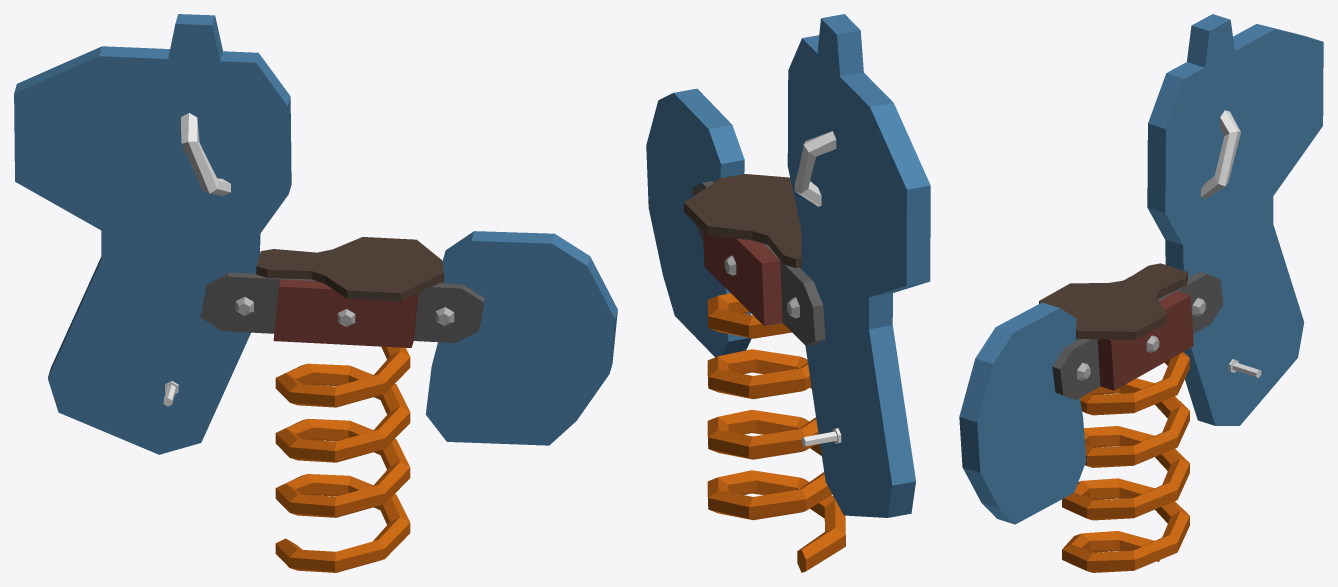
File: Springer Blue.fbx
3 views of the same model, side by side, from view 1: azimuth 30°, elevation 25°; view 2: azimuth 150°, elevation 25°; view 3: azimuth 270°, elevation 25° (orthographic). The views are drawn at different scales.
Visible parts, largest first — view 1: Springer Blue; view 2: Springer Blue; view 3: Springer Blue.
Boxes of the visible parts, left/top/right/bottom form: Springer Blue: left=14, top=14, right=617, bottom=572; Springer Blue: left=646, top=14, right=930, bottom=572; Springer Blue: left=959, top=14, right=1323, bottom=572.
Size of the model in its own units: 158 by 121 by 187.
